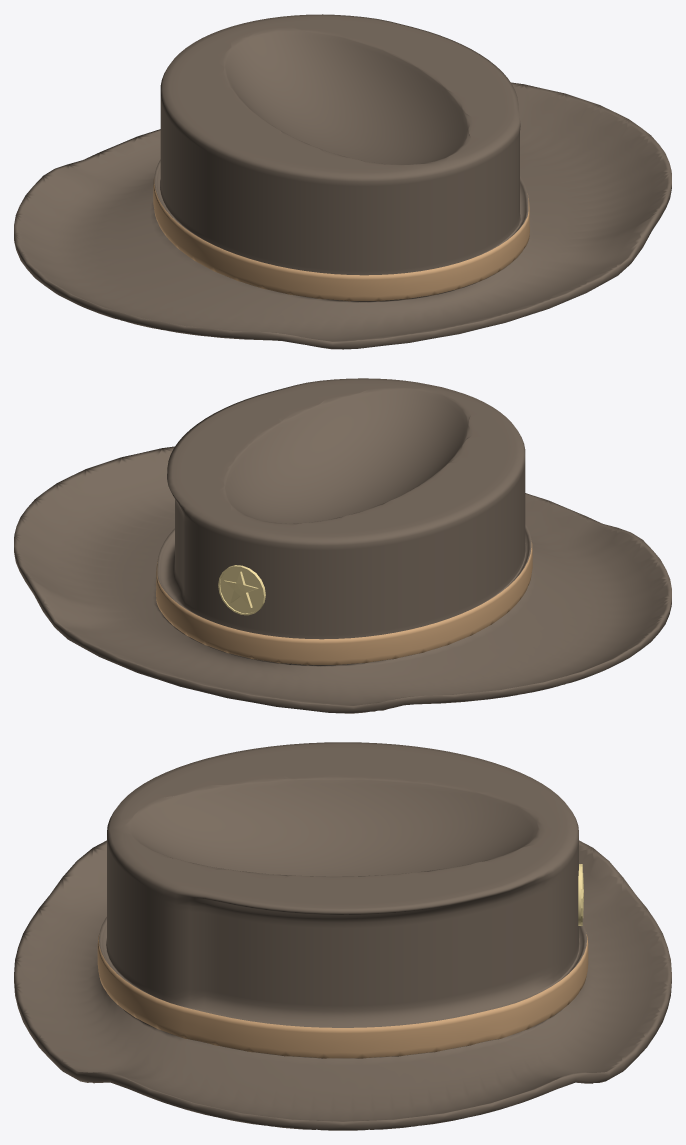
Rendered from cowboyHat.fbx.
The picture shows the model from 3 angles, top to bottom: view 1: azimuth 30°, elevation 25°; view 2: azimuth 150°, elevation 25°; view 3: azimuth 270°, elevation 25°; orthographic projection. The views are drawn at different scales.
Visible parts, largest first — view 1: CowboyHat; view 2: CowboyHat; view 3: CowboyHat.
Boxes of the visible parts, box(x1,y1,x2,y2) form: CowboyHat: box(14, 14, 671, 349); CowboyHat: box(14, 378, 671, 713); CowboyHat: box(14, 742, 671, 1130).
Bounding box in the file's own units: 362 × 82.62 × 294.
